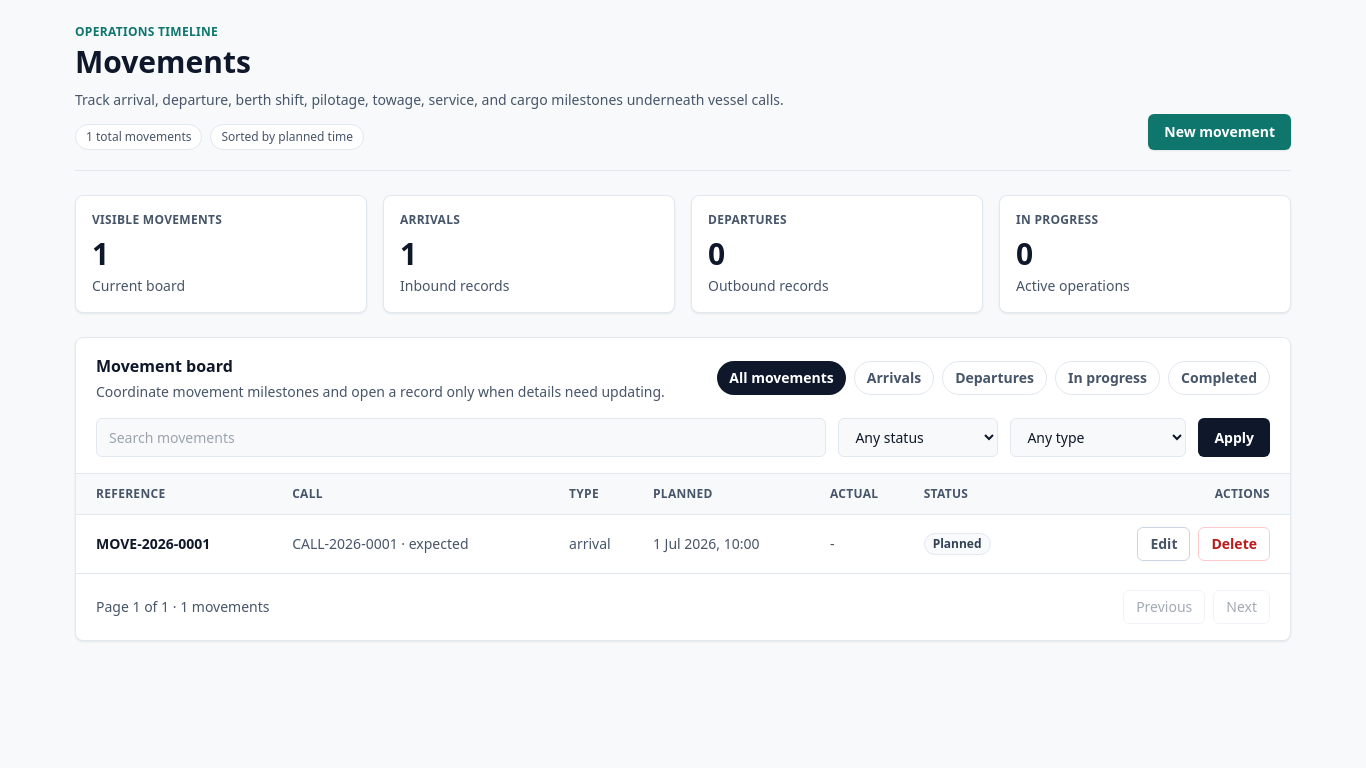
MovementsPage › opens the movement editor from the table row
This screenshot has width=1366, height=768.
Expected: the text "MOVE-2026-0001" is shown, [96, 534, 210, 553]
Click the row "MOVE-2026-0001" at (683, 544), box [76, 514, 1290, 573]
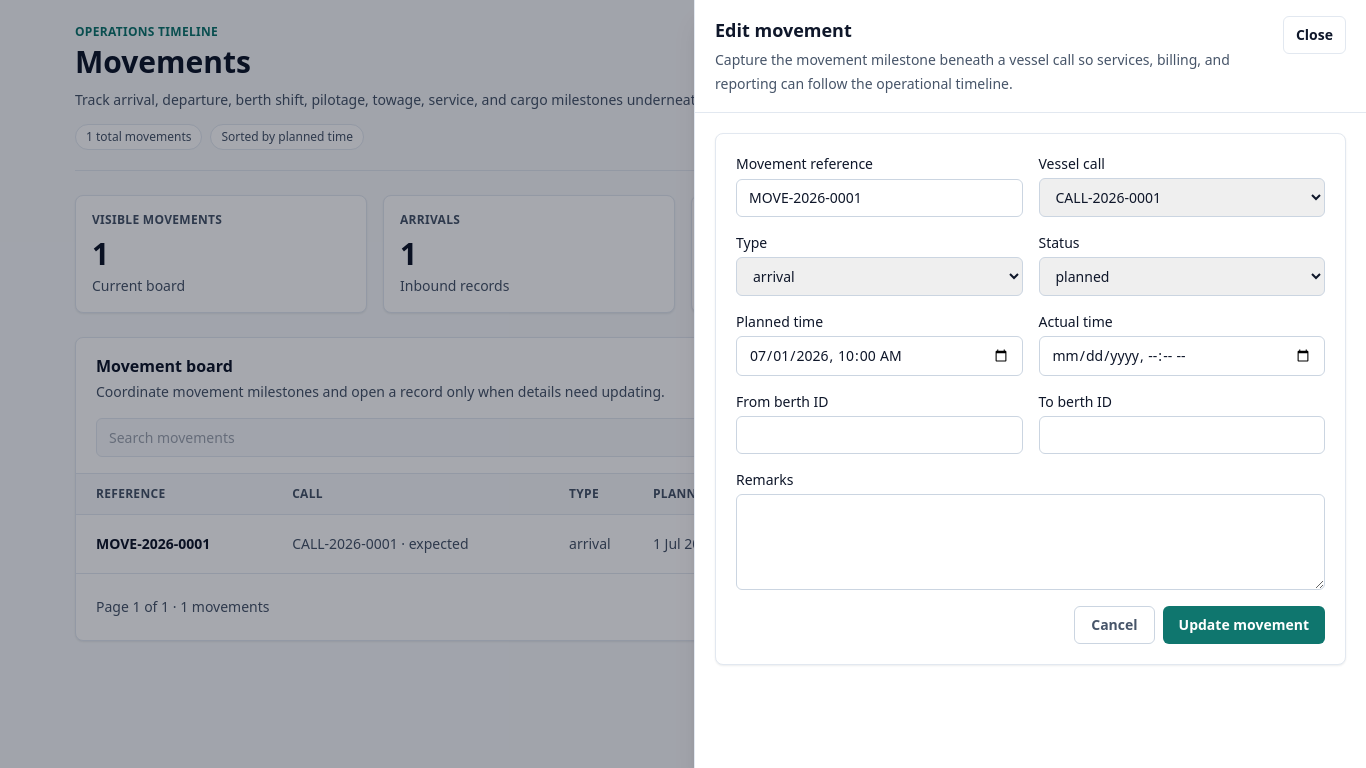
Expected: the heading "Edit movement" is shown, [715, 18, 852, 42]
Expected: the field showing "MOVE-2026-0001" is shown, [736, 178, 1022, 217]
